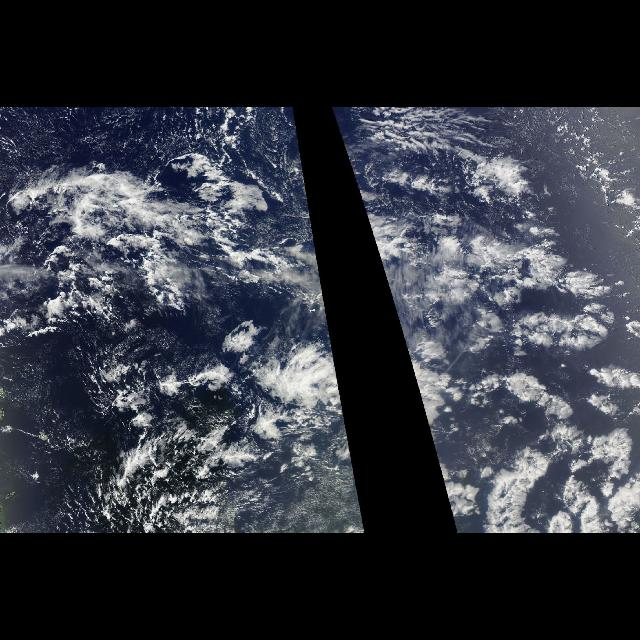Flower: (438, 236, 640, 462)
Gravel: (54, 342, 316, 508), (2, 108, 176, 168)
Sugar: (0, 347, 96, 453), (2, 108, 154, 170), (235, 472, 365, 530)
